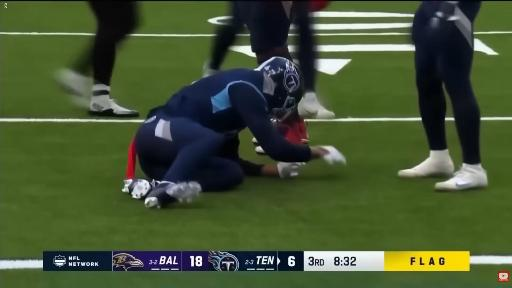Helmet: (257, 57, 303, 119)
Jersey: (148, 69, 311, 162)
Player: (124, 58, 344, 207), (204, 0, 334, 143), (399, 2, 487, 190), (57, 1, 138, 117)
